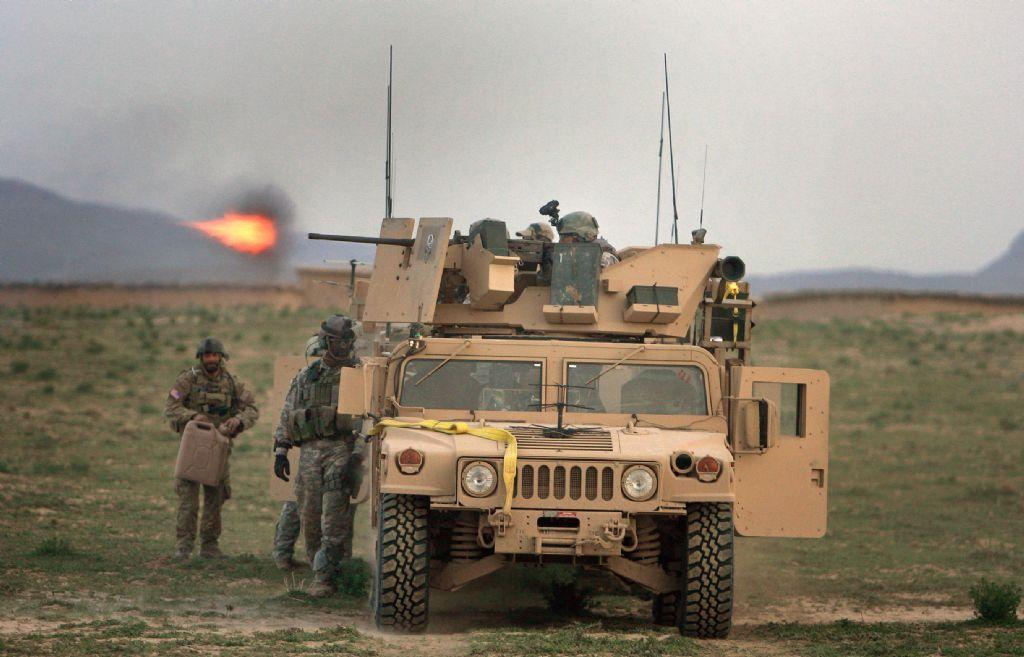armored_car: (364, 226, 829, 657)
person: (264, 311, 368, 605), (162, 324, 248, 544)
